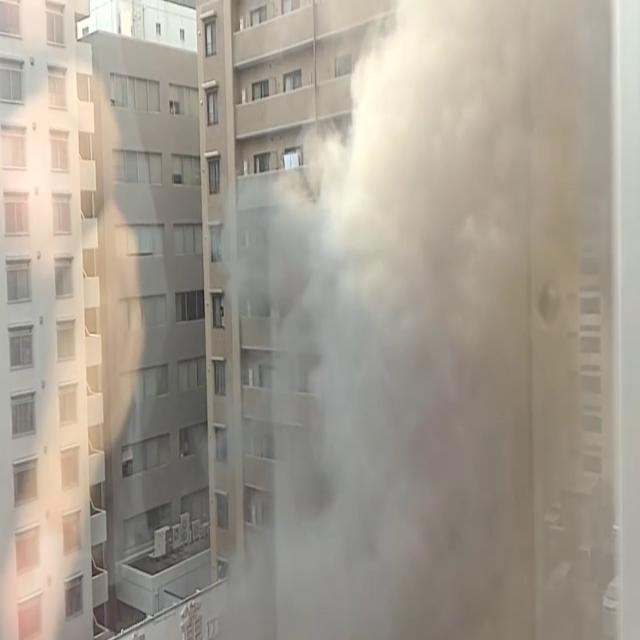Smoke: (214, 0, 602, 638)
